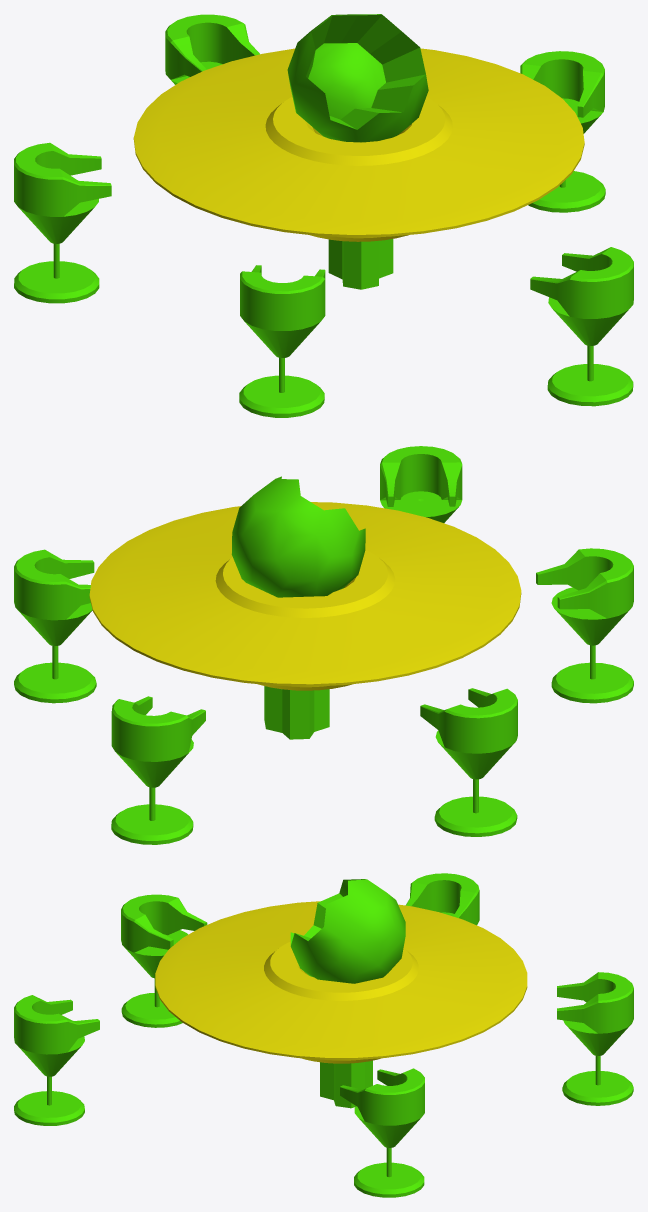
The model's file is TableChairs.fbx.
The picture shows the model from 3 angles, top to bottom: view 1: azimuth 30°, elevation 25°; view 2: azimuth 150°, elevation 25°; view 3: azimuth 270°, elevation 25°; orthographic projection. The views are drawn at different scales.
Parts seen in each view (by area): view 1: polySurface8, polySurface4, polySurface5, polySurface6, polySurface3, polySurface7; view 2: polySurface8, polySurface6, polySurface3, polySurface4, polySurface7, polySurface5; view 3: polySurface8, polySurface7, polySurface5, polySurface3, polySurface6, polySurface4.
Part boxes in pixels (box(x1,y1,x2,y2)): polySurface8: box(133, 14, 584, 289); polySurface4: box(14, 142, 111, 303); polySurface5: box(530, 247, 633, 406); polySurface6: box(239, 265, 325, 417); polySurface3: box(520, 51, 605, 212); polySurface7: box(165, 14, 259, 84); polySurface8: box(89, 476, 521, 739); polySurface6: box(536, 548, 633, 703); polySurface3: box(14, 549, 96, 703); polySurface4: box(420, 688, 517, 836); polySurface7: box(111, 696, 205, 844); polySurface5: box(380, 446, 462, 522); polySurface8: box(155, 879, 527, 1108); polySurface7: box(557, 972, 633, 1105); polySurface5: box(14, 995, 99, 1125); polySurface3: box(340, 1068, 424, 1197); polySurface6: box(121, 894, 207, 1027); polySurface4: box(405, 873, 479, 925).
Bounding box in the file's own units: 14.66 × 6.67 × 17.39.
